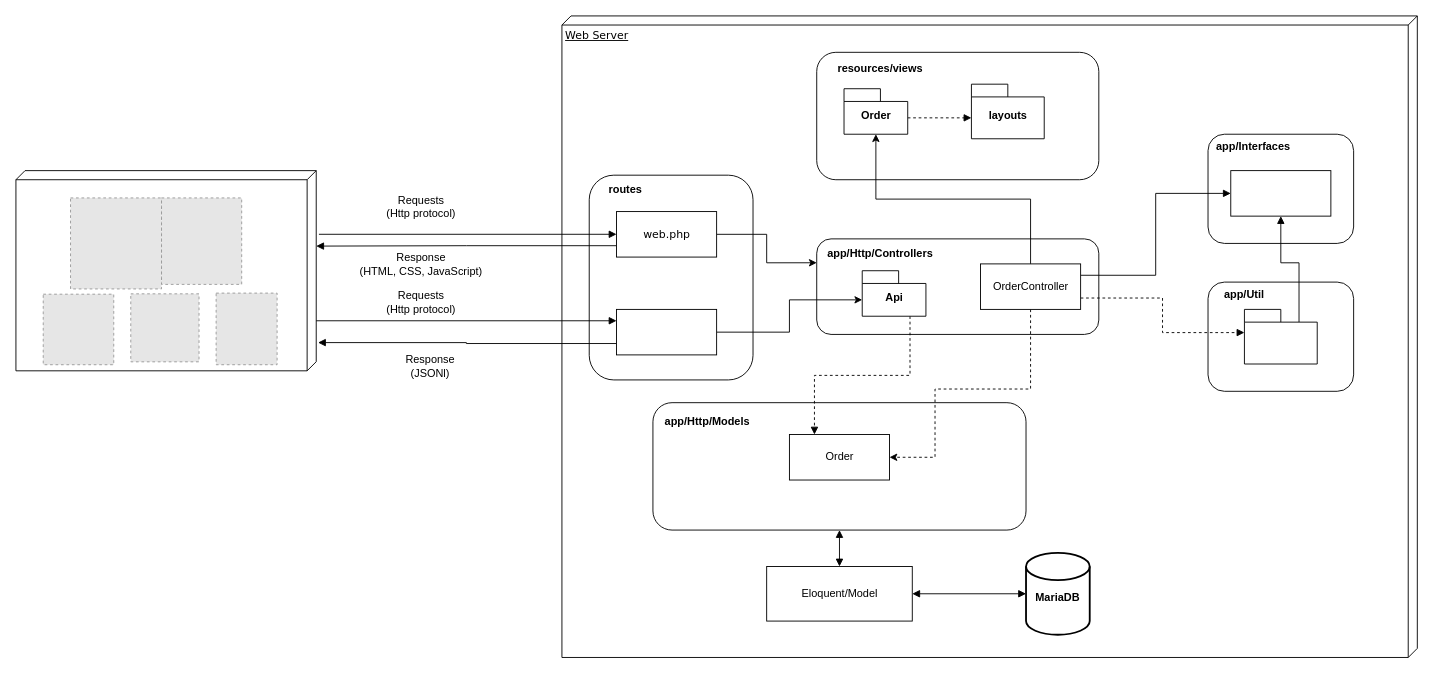
This 1433x673 diagram has some shape labels left out. Grey dashed boxes stand in for pictures. Here are the shapes that lost their labels. From the top down, the box of each, then its label:
(1230, 170, 1331, 216): «interface» PaymentMethod
(15, 170, 316, 371): Client
(616, 308, 717, 355): api.php
(1244, 308, 1317, 364): Payments
